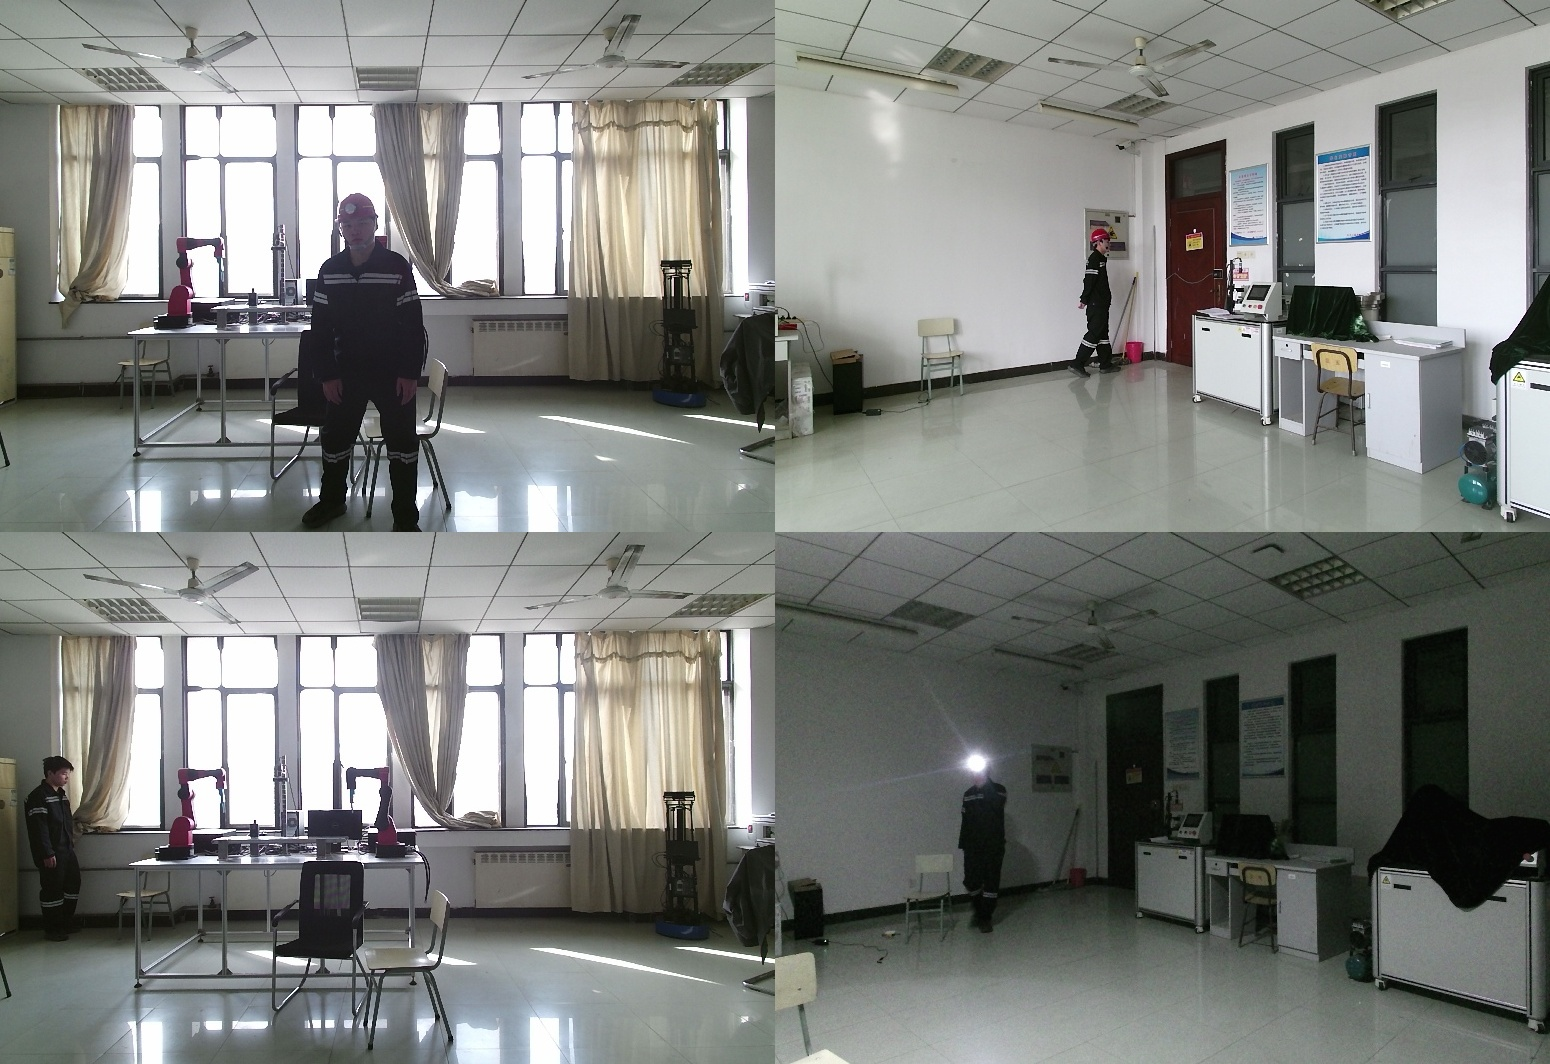person: (303, 191, 440, 532), (18, 756, 81, 943), (956, 756, 1019, 940), (1071, 231, 1116, 382)
